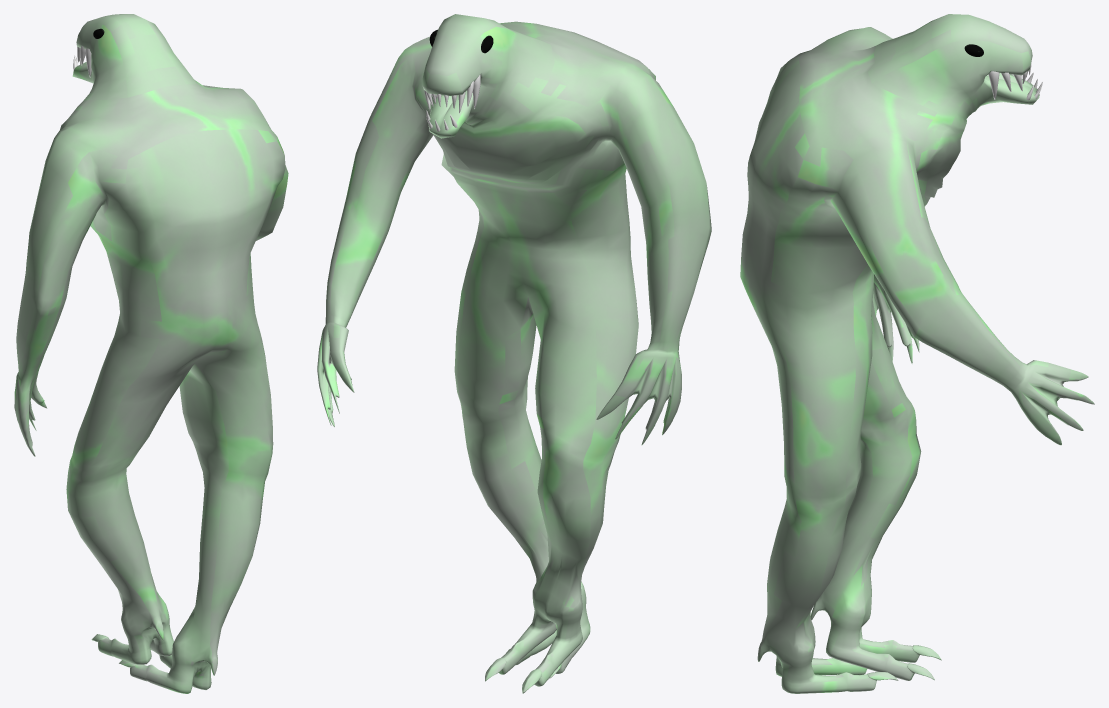
File: Berserkerandar.0067.obj
3 views of the same model, side by side, from view 1: azimuth 30°, elevation 25°; view 2: azimuth 150°, elevation 25°; view 3: azimuth 270°, elevation 25° (orthographic). The views are drawn at different scales.
Parts seen in each view (by area): view 1: polySurface27; view 2: polySurface27; view 3: polySurface27.
Boxes of the visible parts, bbox=[...] form: polySurface27: bbox=[14, 14, 288, 693]; polySurface27: bbox=[317, 14, 711, 693]; polySurface27: bbox=[740, 14, 1094, 693].
Size of the model in its own units: 11.39 by 23.72 by 11.3.
1 material, 1 textured.
